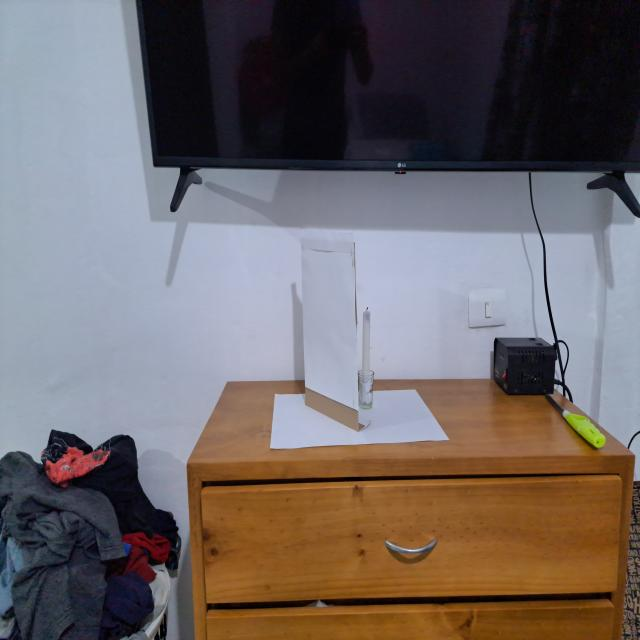candle: (359, 302, 376, 412)
wall: (298, 233, 356, 434)
